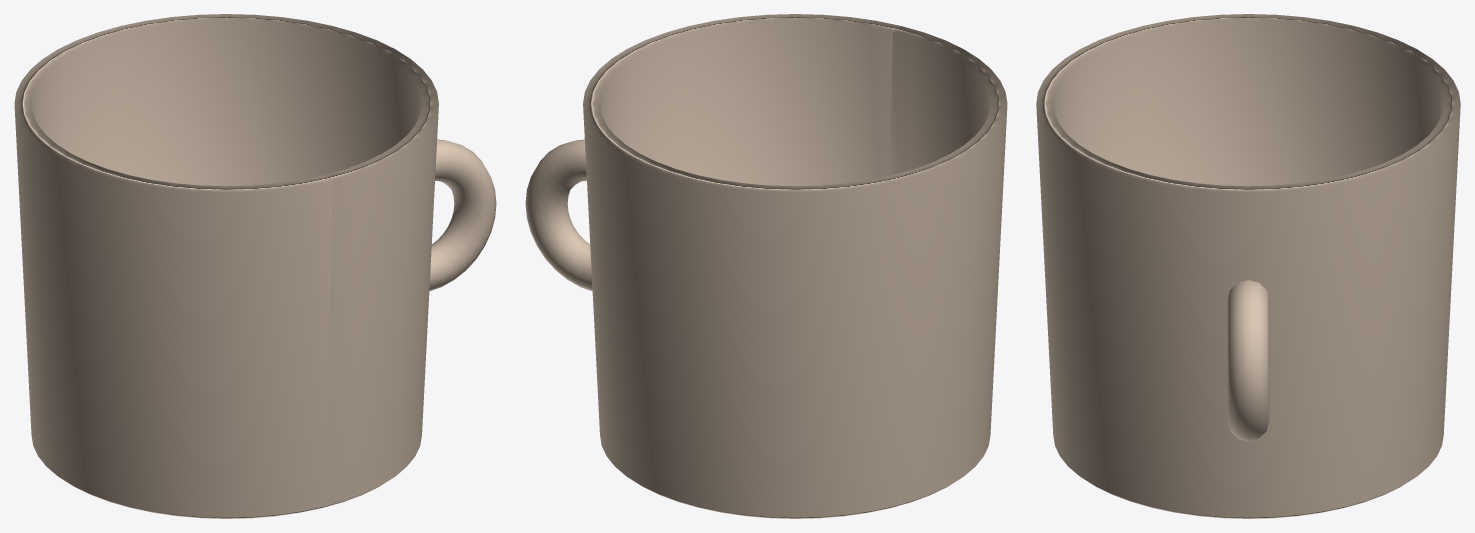
File: CER-08.glb
The picture shows the model from 3 angles, left to right: view 1: azimuth 30°, elevation 25°; view 2: azimuth 150°, elevation 25°; view 3: azimuth 270°, elevation 25°; orthographic projection.
Size of the model in its own units: 0.141 by 0.1 by 0.115.
